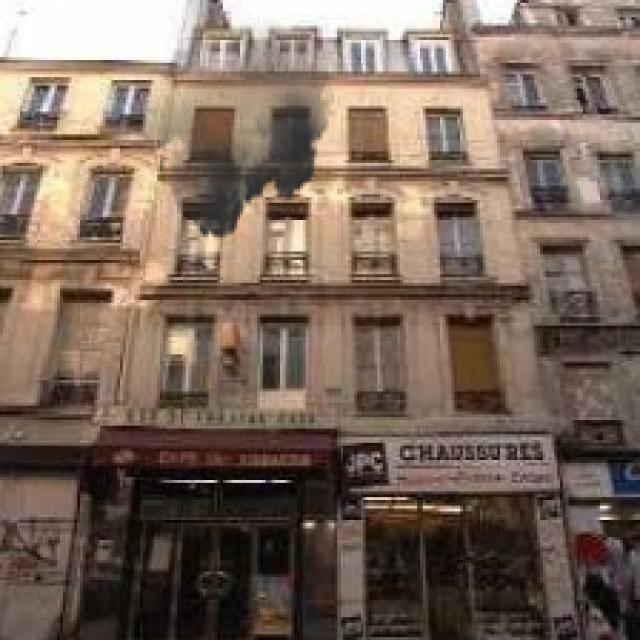Smoke: (128, 12, 334, 248)
